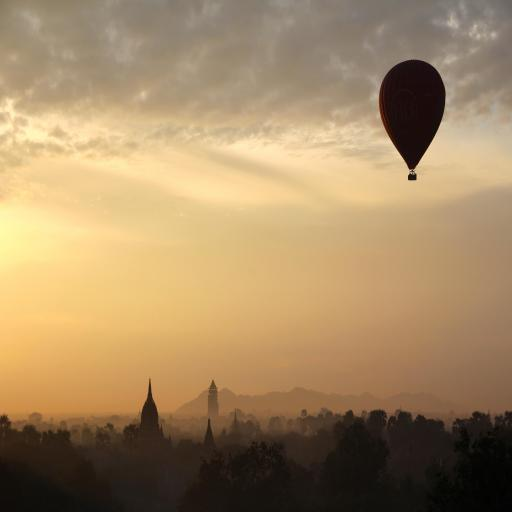hot air ballon: (378, 59, 446, 183)
